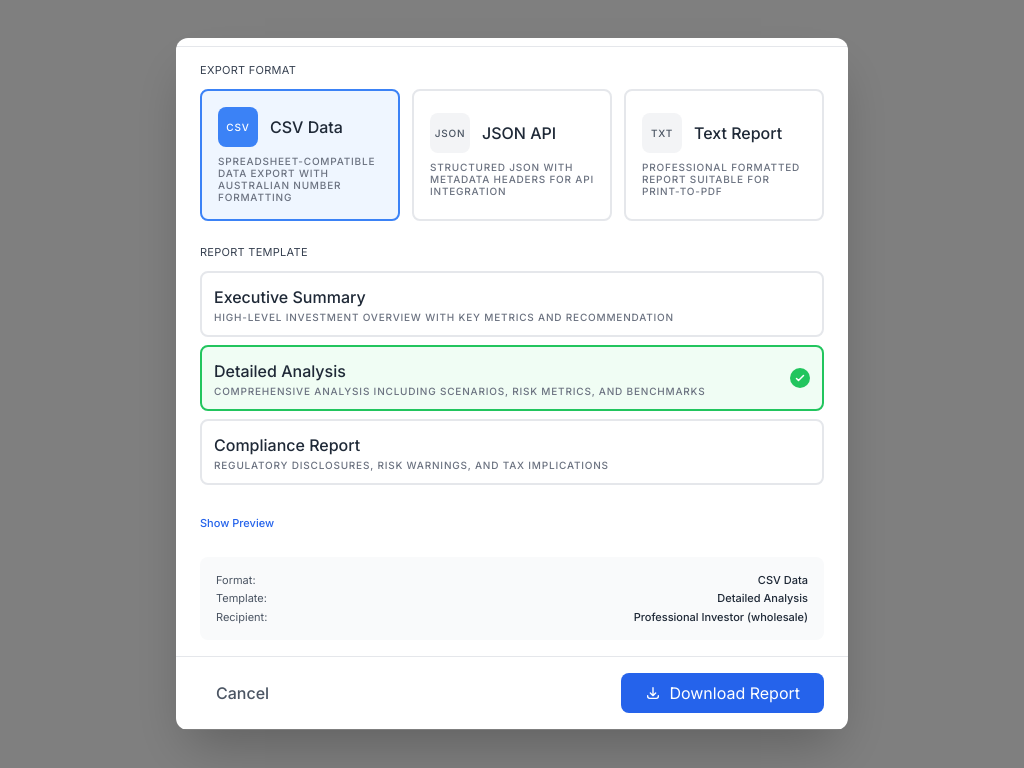
Scenario: ExportModal Download › shows error when export fails
(page scrolled)
Click the button with test id "export-download-btn".
click(723, 693)  # box [621,673,824,713]
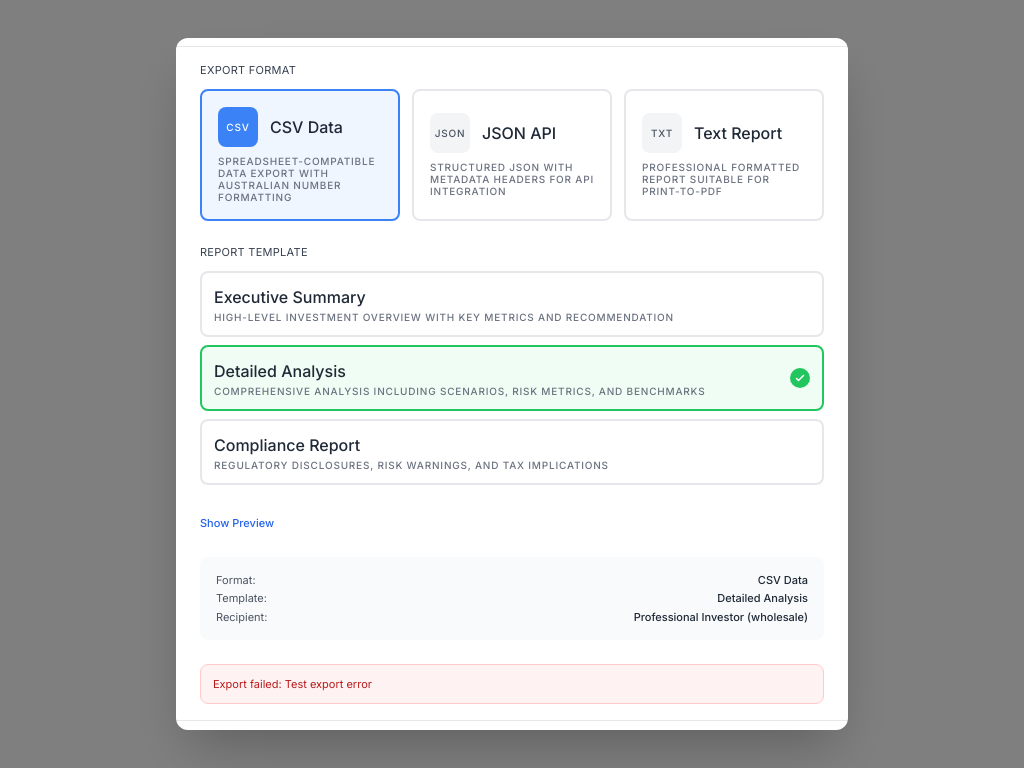
Expected: the text "Export failed: Test export error" is shown, [200,664,824,704]
